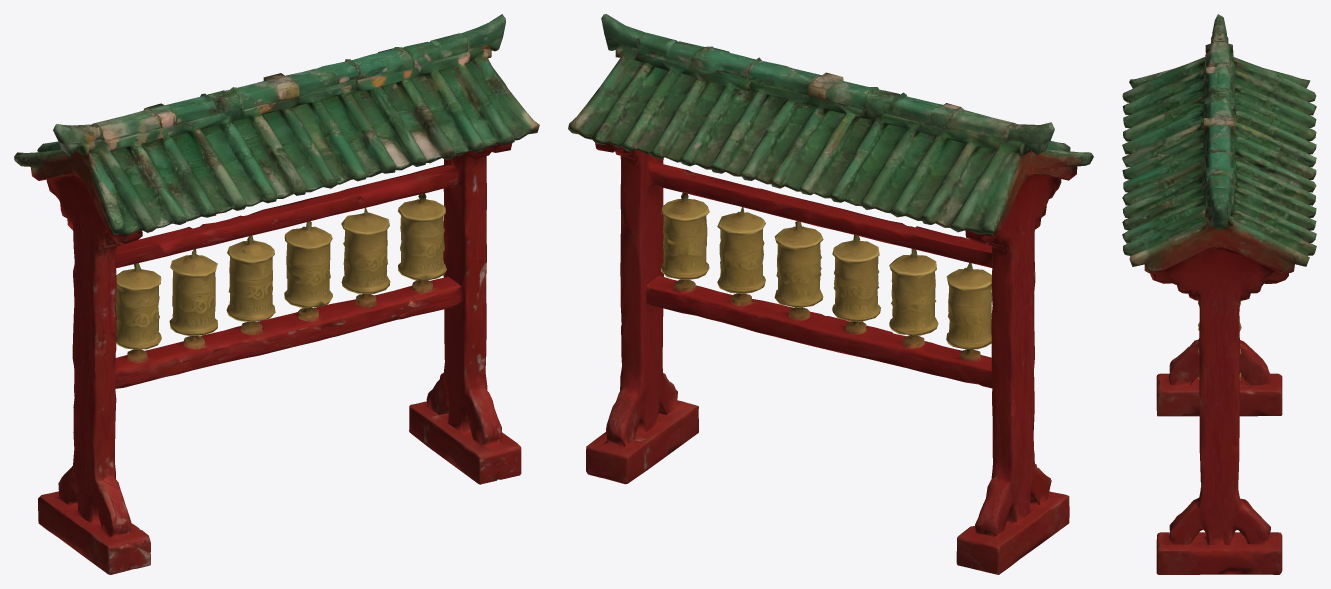
The model's file is prayer_wheels.glb.
3 renders of one model, left to right at view 1: azimuth 30°, elevation 25°; view 2: azimuth 150°, elevation 25°; view 3: azimuth 270°, elevation 25°, orthographic. The views are drawn at different scales.
Parts seen in each view (by area): view 1: tripo_node_73094b26-e25a-4464-9a4d-20c712aefc3a; view 2: tripo_node_73094b26-e25a-4464-9a4d-20c712aefc3a; view 3: tripo_node_73094b26-e25a-4464-9a4d-20c712aefc3a.
Boxes of the visible parts, x1,y1,x2,y2 form: tripo_node_73094b26-e25a-4464-9a4d-20c712aefc3a: (14,14,539,574); tripo_node_73094b26-e25a-4464-9a4d-20c712aefc3a: (568,14,1093,574); tripo_node_73094b26-e25a-4464-9a4d-20c712aefc3a: (1122,14,1316,574).
Size of the model in its own units: 1 by 0.9106 by 0.4258.
1 material, 1 textured.
